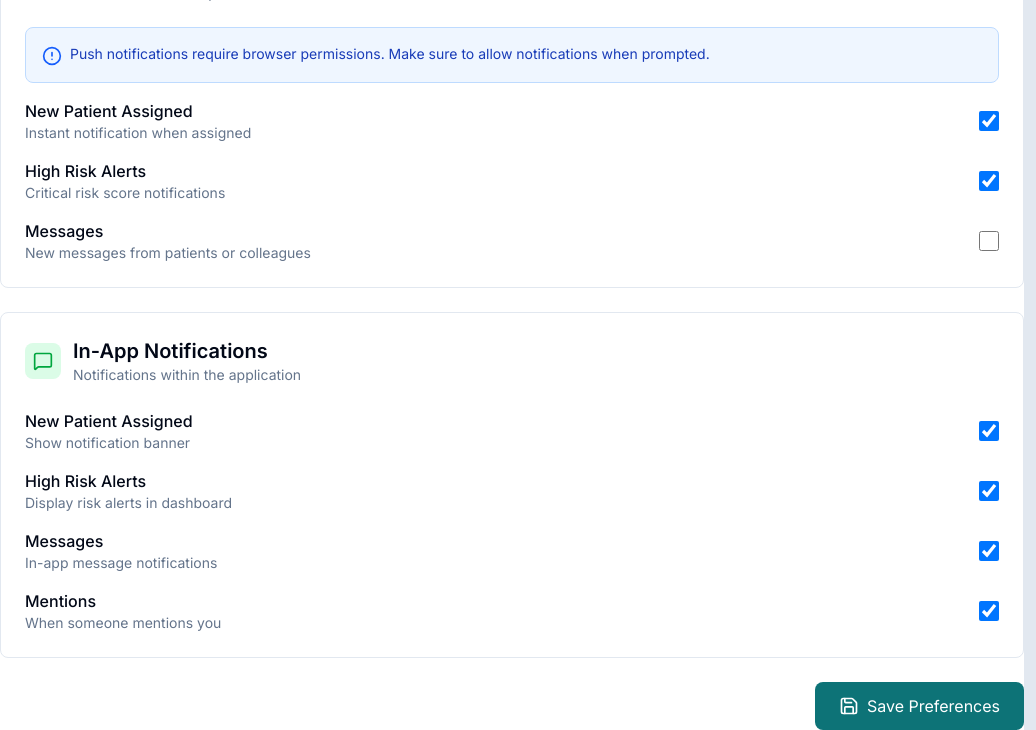
NotificationSettings › should successfully save notification preferences
(page scrolled)
Click the button "Save Preferences": (919, 706) [815,682,1024,729]
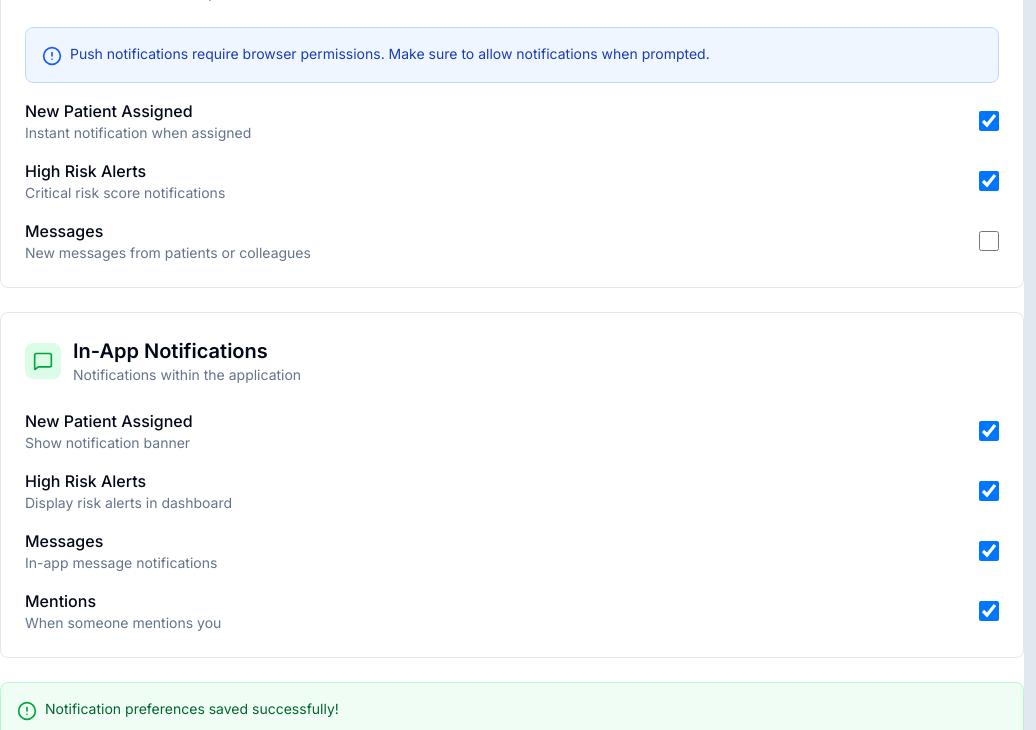
expect the text "Notification preferences saved successfully!" is shown: met, box [45,699,339,719]
